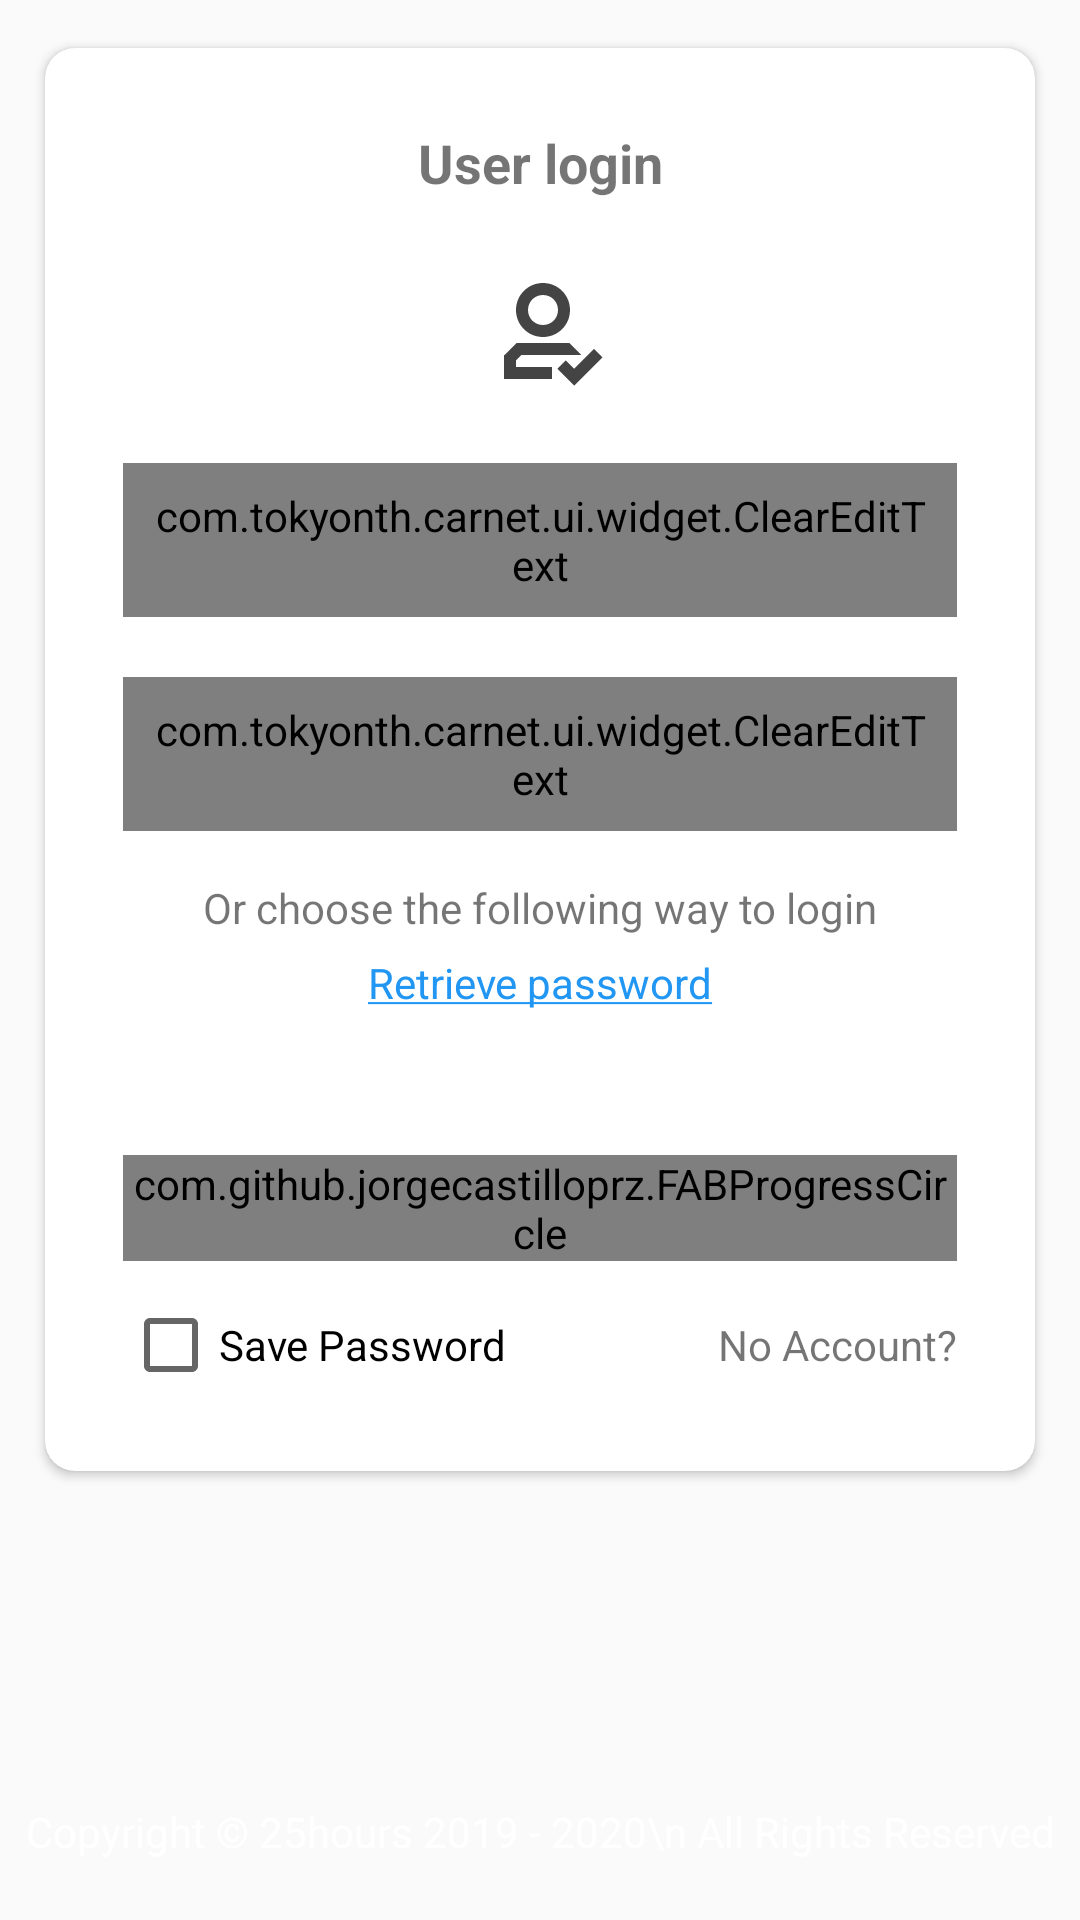

Screen size 1080 x 1920. Icon name, then its box in pixels as (x1, y1, x2, y2):
mine: (504, 283, 603, 386)
